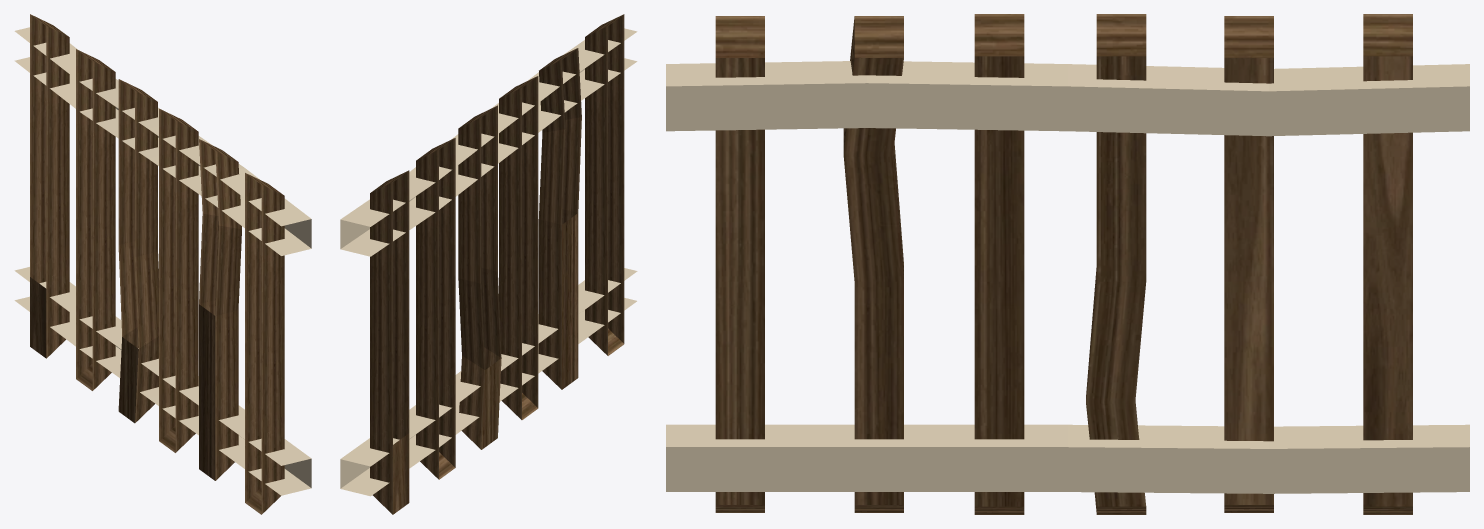
File: Rail.glb
3 views of the same model, side by side, from view 1: azimuth 30°, elevation 25°; view 2: azimuth 150°, elevation 25°; view 3: azimuth 270°, elevation 25° (orthographic). The views are drawn at different scales.
Parts seen in each view (by area): view 1: Rail; view 2: Rail; view 3: Rail.
Boxes of the visible parts, x1,y1,x2,y2 form: Rail: (14, 14, 311, 514); Rail: (340, 14, 637, 514); Rail: (666, 14, 1469, 514).
Size of the model in its own units: 0.0514 by 0.4856 by 0.7061.
Materials: 2 (1 with a texture image).
